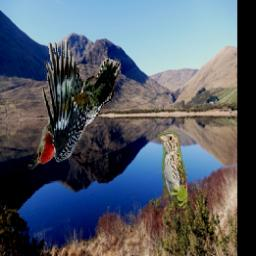Sparrow: (158, 129, 188, 209)
Woodpecker: (28, 41, 122, 171)
